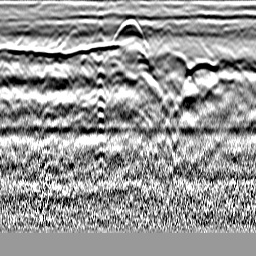cavity: (112, 15, 145, 42)
